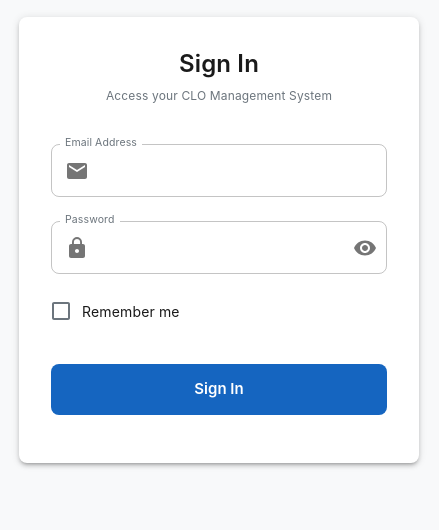
Test: LoginForm › displays validation errors for empty fields
Click the button "Sign In" at (219, 390), box x1=51 y1=364 x2=387 y2=415
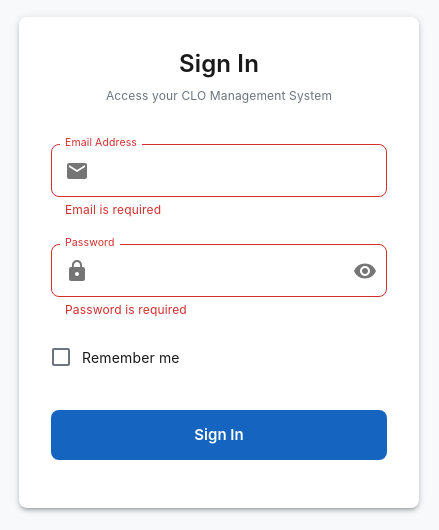
Expected: the text "Email is required" is shown, x1=65 y1=202 x2=161 y2=217
Expected: the text "Password is required" is shown, x1=65 y1=302 x2=187 y2=317
